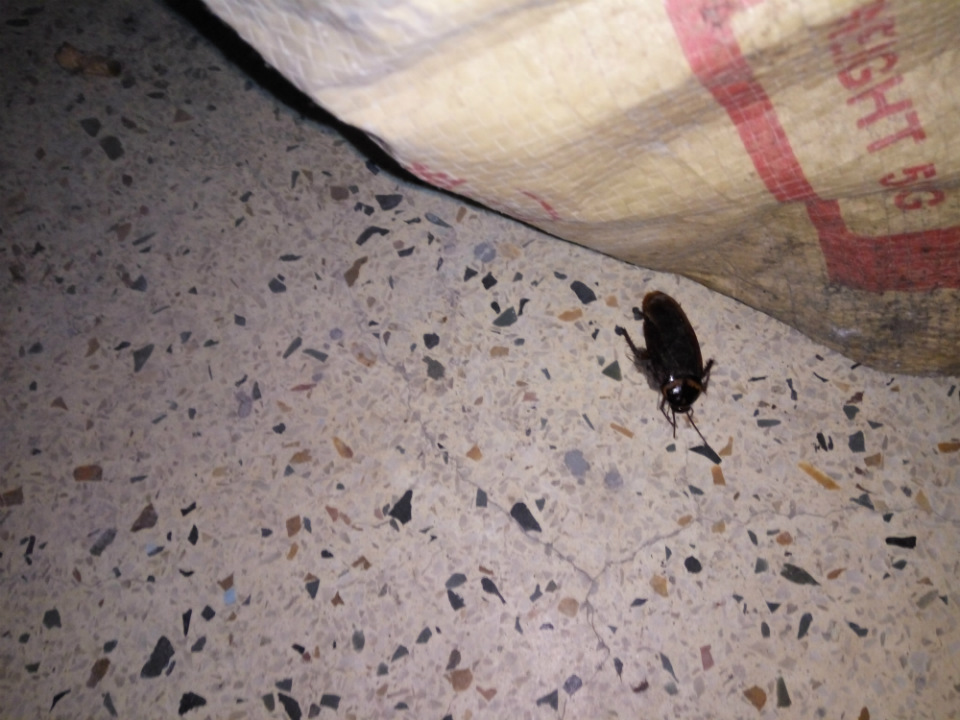cockroach: (532, 256, 805, 487)
